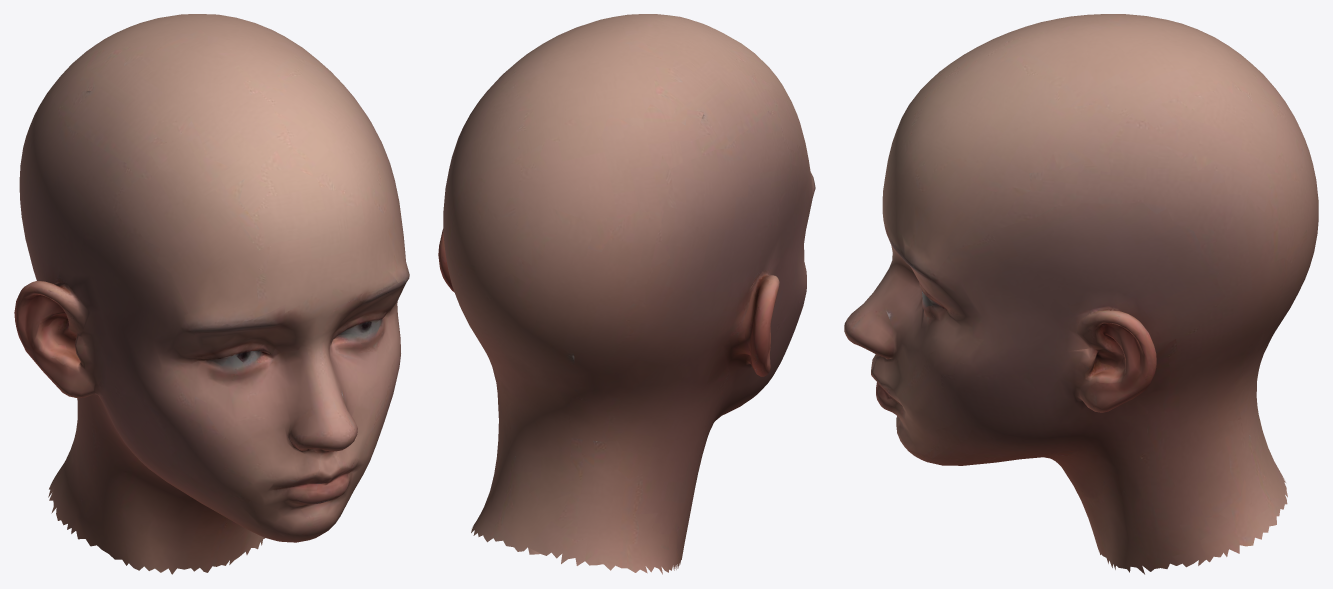
Rendered from head_f1.glb.
3 renders of one model, left to right at view 1: azimuth 30°, elevation 25°; view 2: azimuth 150°, elevation 25°; view 3: azimuth 270°, elevation 25°, orthographic. The views are drawn at different scales.
Visible parts, largest first — view 1: Head; view 2: Head; view 3: Head.
Boxes of the visible parts, x1,y1,x2,y2 form: Head: [14, 14, 409, 574]; Head: [438, 14, 815, 574]; Head: [844, 14, 1318, 574].
Bounding box in the file's own units: 0.894 × 1.32 × 1.09.
Materials: 1 (1 with a texture image).
